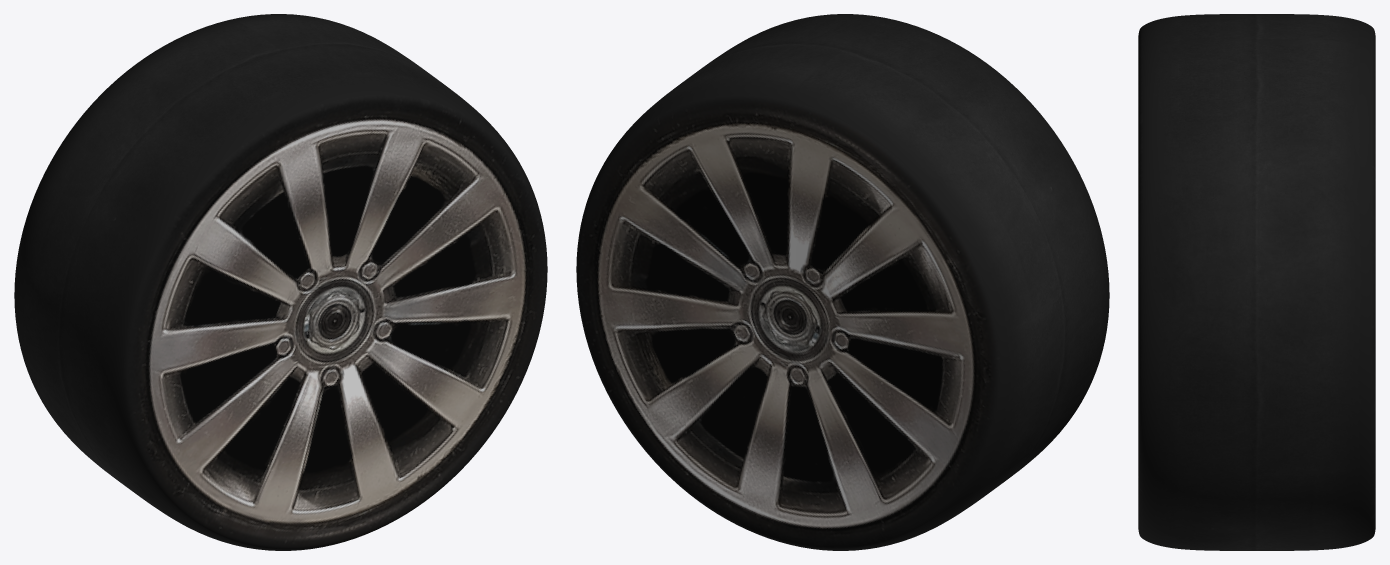
Rendered from wheel.dae.
3 views of the same model, side by side, from view 1: azimuth 30°, elevation 25°; view 2: azimuth 150°, elevation 25°; view 3: azimuth 270°, elevation 25° (orthographic). The views are drawn at different scales.
Parts seen in each view (by area): view 1: Wheel_001; view 2: Wheel_001; view 3: Wheel_001.
Part boxes in pixels (left/top/right/bottom): Wheel_001: left=14, top=14, right=547, bottom=550; Wheel_001: left=576, top=14, right=1109, bottom=550; Wheel_001: left=1138, top=14, right=1375, bottom=550.
Size of the model in its own units: 0.0585 by 0.0259 by 0.0585.
Materials: 1 (1 with a texture image).
